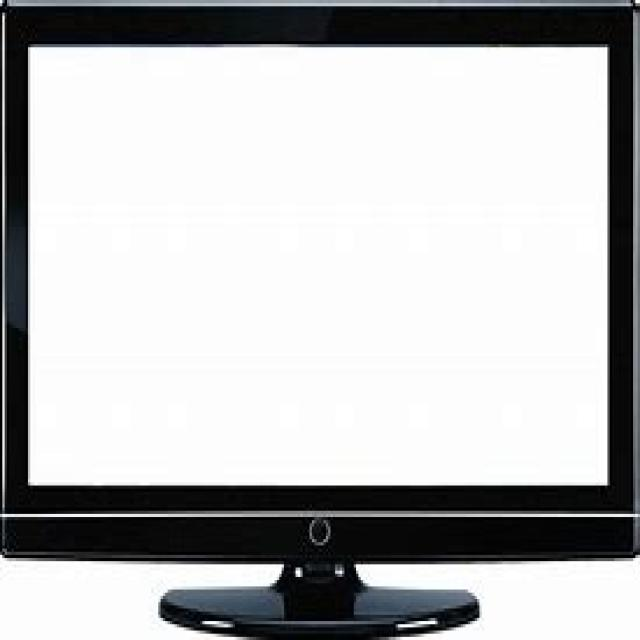tv: (0, 0, 638, 637)
